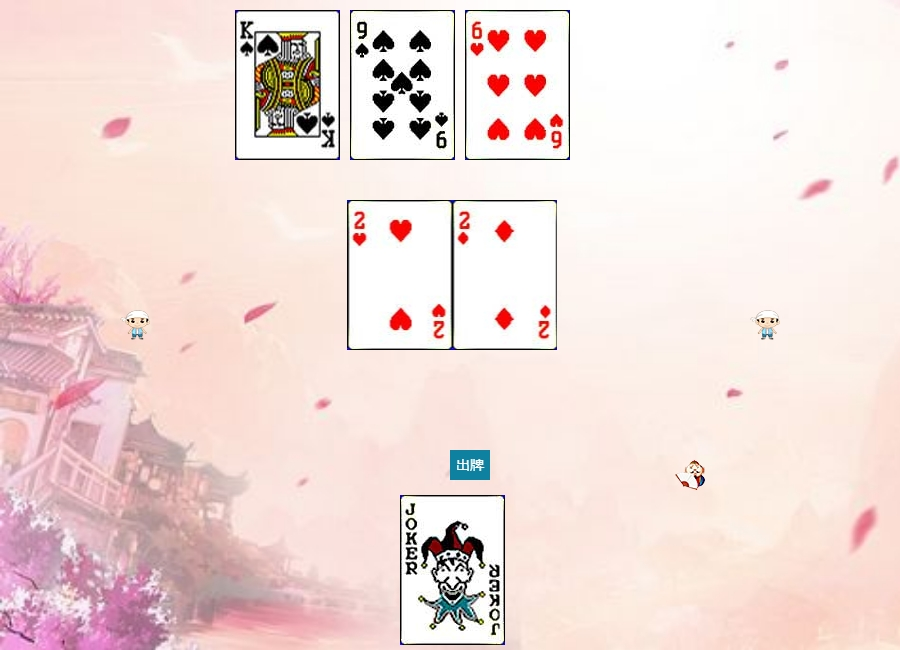13~4: (235, 10, 340, 160)
15~1: (453, 200, 558, 350)
15~3: (348, 200, 453, 350)
17~3: (400, 495, 505, 645)
6~3: (465, 10, 570, 160)
9~4: (350, 10, 455, 160)
